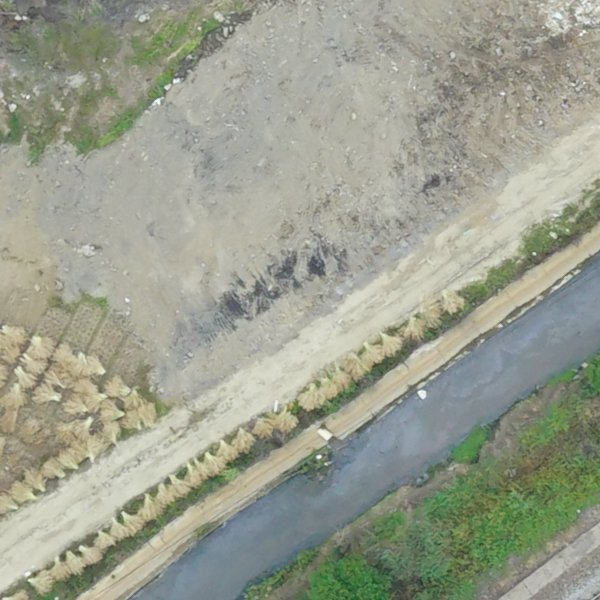Type1: (313, 420, 349, 464)
